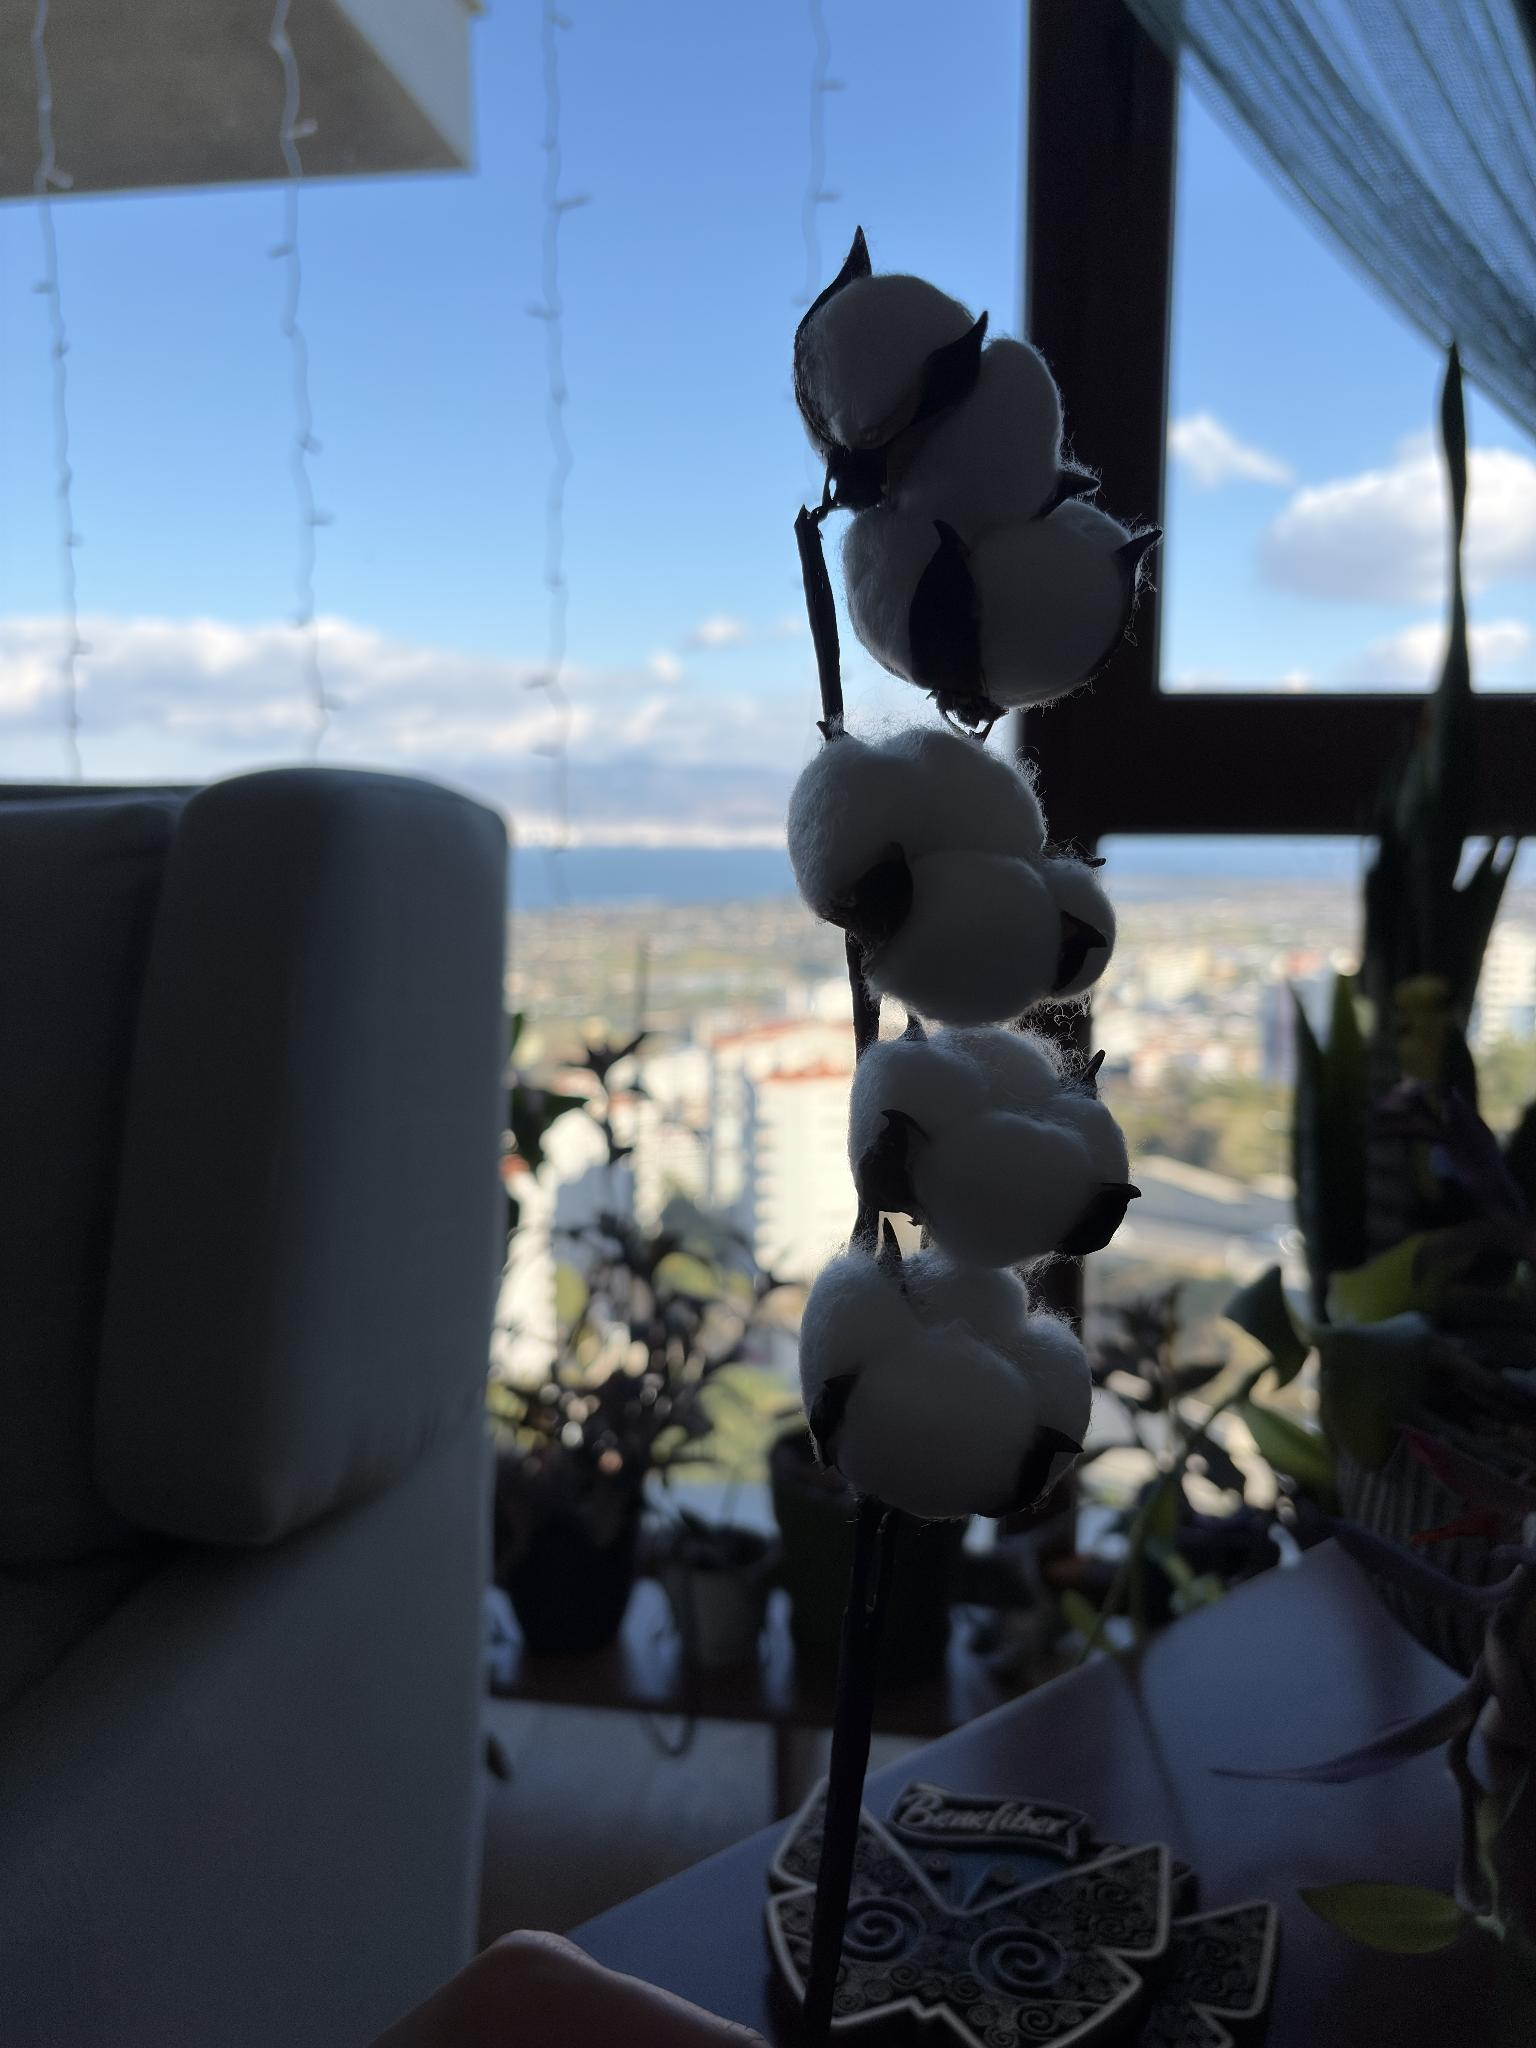cotton_boll: (787, 727, 1047, 916), (833, 1324, 1037, 1517), (968, 502, 1150, 705), (892, 339, 1062, 545), (866, 850, 1062, 1026), (794, 273, 973, 450), (908, 1109, 1102, 1266), (876, 727, 1046, 879), (799, 1250, 916, 1421), (849, 1037, 981, 1166), (841, 508, 939, 681), (899, 1248, 1034, 1356), (989, 1309, 1092, 1448), (929, 1027, 1084, 1116), (1042, 856, 1117, 997), (1050, 1090, 1129, 1187)
cotton_boll-cluster: (789, 218, 1171, 718), (786, 722, 1123, 1026), (795, 1248, 1096, 1524), (847, 1027, 1147, 1268)
